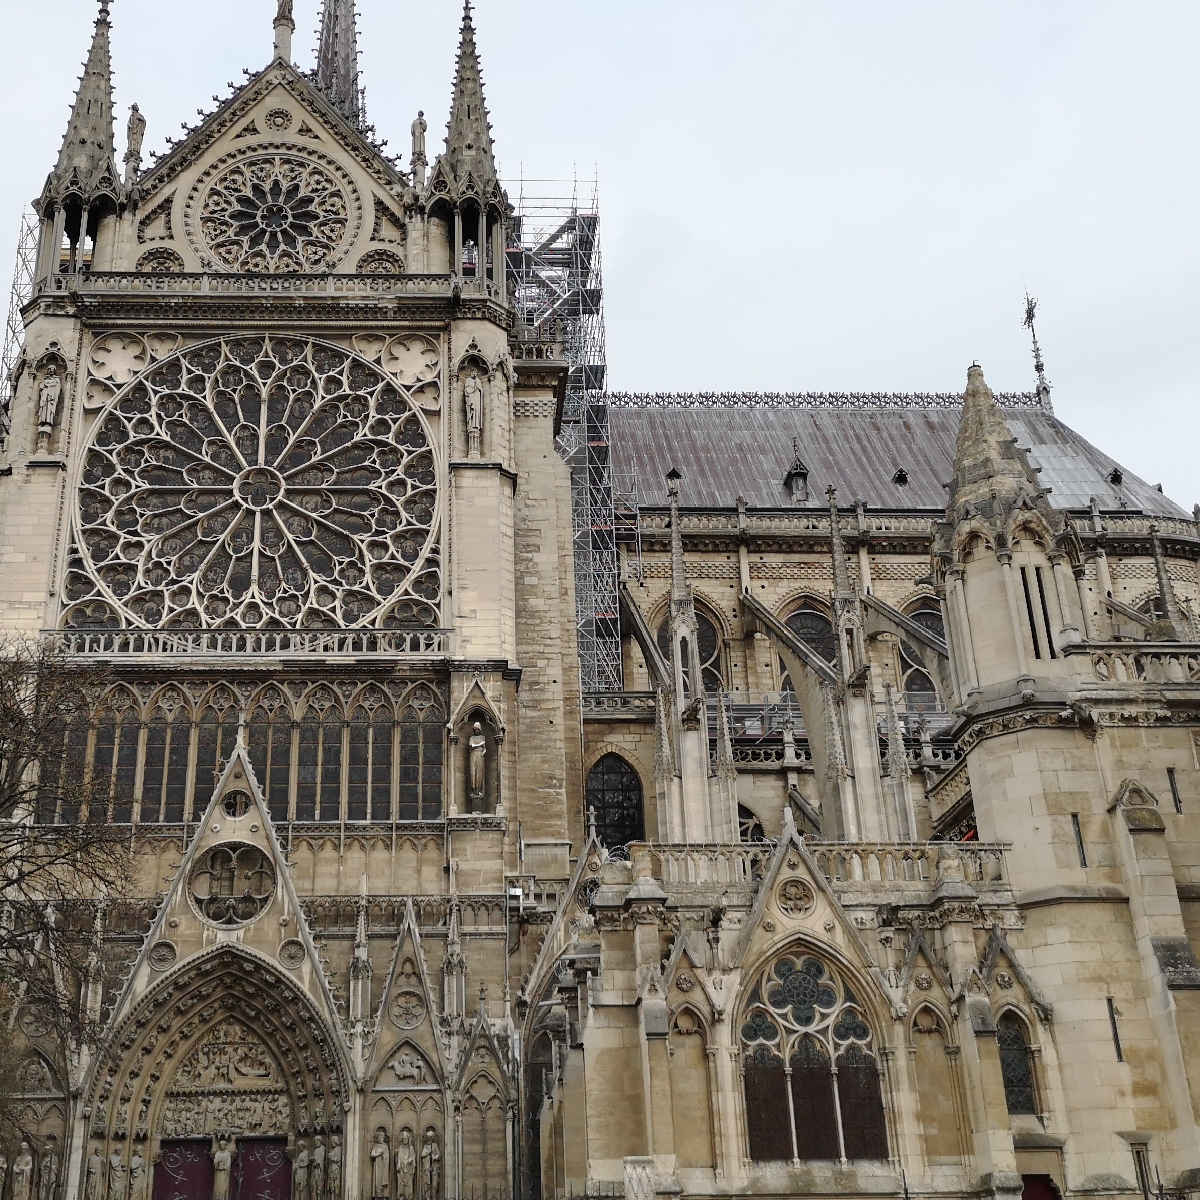arco-apuntado: (89, 938, 337, 1113), (729, 926, 890, 1047)
pinaculo-gotico: (37, 0, 126, 186), (429, 2, 514, 186)
